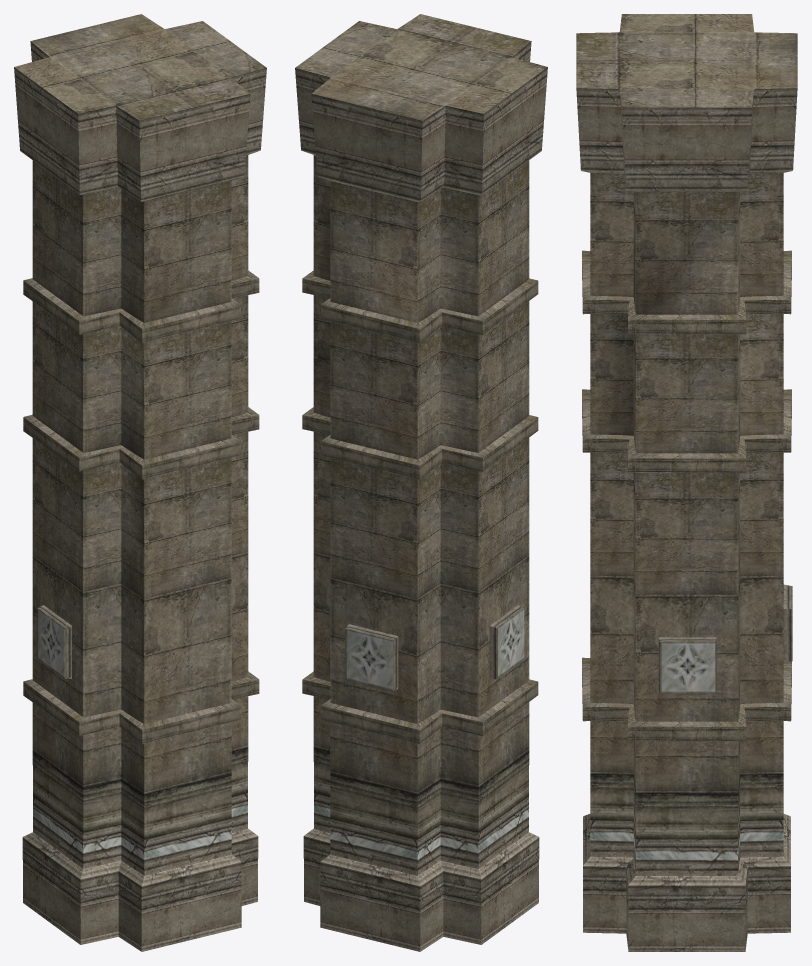
File: SM_EN_2005_zhizi01.FBX
3 views of the same model, side by side, from view 1: azimuth 30°, elevation 25°; view 2: azimuth 150°, elevation 25°; view 3: azimuth 270°, elevation 25° (orthographic).
Parts seen in each view (by area): view 1: SM_EN_2005_zhizi01; view 2: SM_EN_2005_zhizi01; view 3: SM_EN_2005_zhizi01.
Part boxes in pixels (left/top/right/bottom): SM_EN_2005_zhizi01: left=14, top=14, right=266, bottom=951; SM_EN_2005_zhizi01: left=295, top=14, right=547, bottom=951; SM_EN_2005_zhizi01: left=576, top=14, right=797, bottom=951.
Size of the model in its own units: 91.87 by 388 by 91.87.
